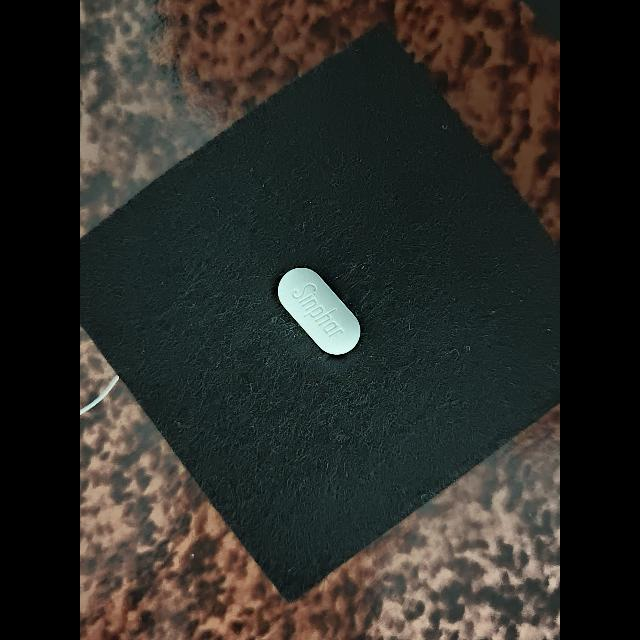Intact Pill: (278, 267, 360, 355)
